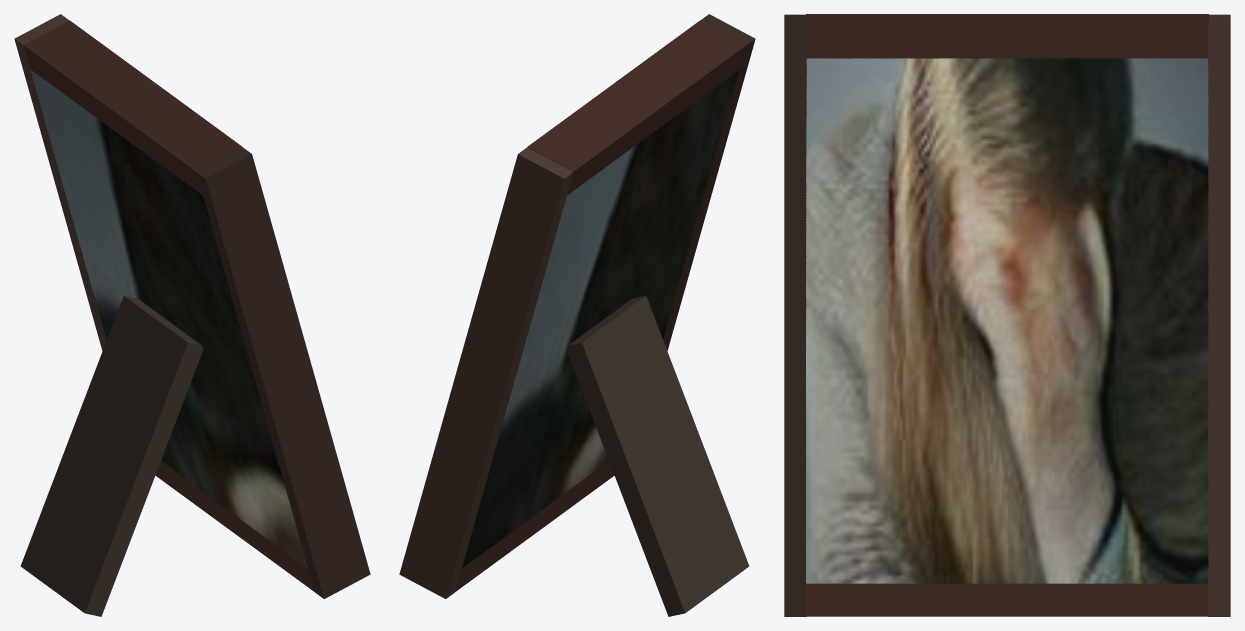
Rendered from TablePicture.fbx.
3 views of the same model, side by side, from view 1: azimuth 30°, elevation 25°; view 2: azimuth 150°, elevation 25°; view 3: azimuth 270°, elevation 25° (orthographic). The views are drawn at different scales.
Parts seen in each view (by area): view 1: Cube, Cube.005, Cube.002, Cube.004, Cube.001, Cube.003; view 2: Cube, Cube.005, Cube.001, Cube.004, Cube.002, Cube.003; view 3: Cube, Cube.004, Cube.001, Cube.003, Cube.002.
Boxes of the visible parts, box(x1,y1,x2,y2) form: Cube: box(30, 69, 307, 568); Cube.005: box(20, 296, 203, 616); Cube.002: box(196, 147, 370, 598); Cube.004: box(23, 20, 242, 195); Cube.001: box(14, 14, 106, 350); Cube.003: box(155, 461, 314, 591); Cube: box(462, 69, 739, 568); Cube.005: box(566, 296, 749, 616); Cube.001: box(399, 147, 573, 598); Cube.004: box(527, 20, 746, 195); Cube.002: box(663, 14, 755, 350); Cube.003: box(455, 461, 614, 591); Cube: box(806, 58, 1208, 583); Cube.004: box(806, 14, 1208, 58); Cube.001: box(1208, 14, 1230, 616); Cube.003: box(806, 583, 1207, 616); Cube.002: box(784, 14, 806, 616).
Bounding box in the file's own units: 21.26 × 44.63 × 31.67.
6 materials, 1 textured.
